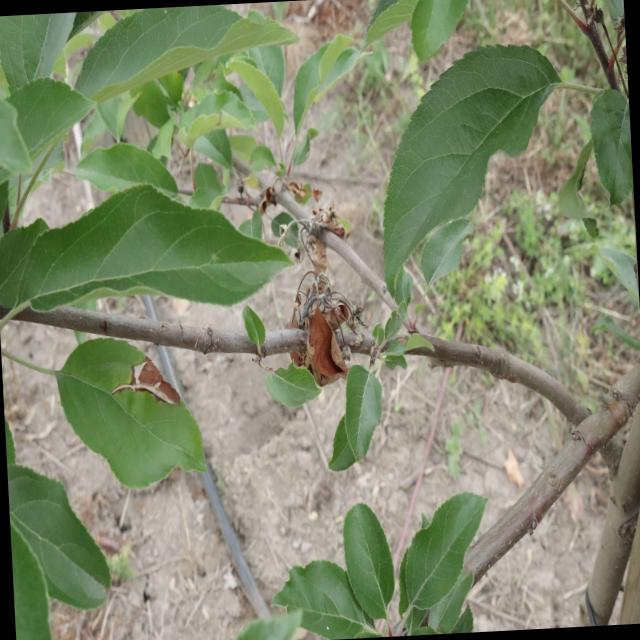-FireBlight-: (296, 266, 356, 386)
